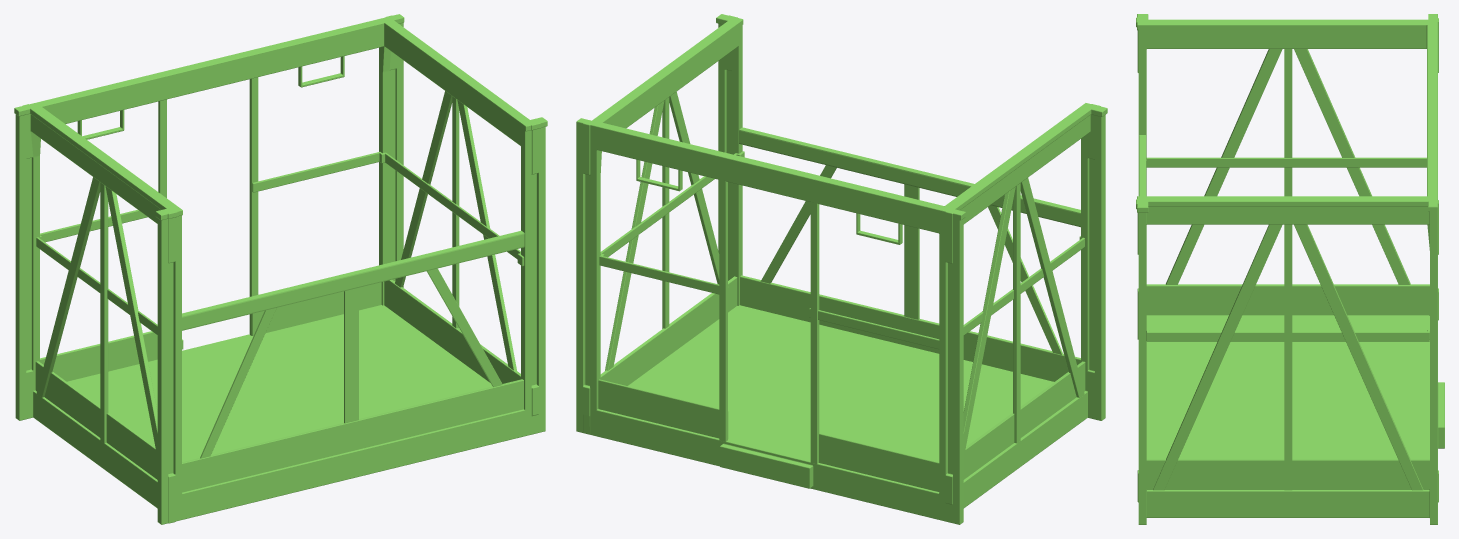
The model's file is constructionPlatform_08.fbx.
3 views of the same model, side by side, from view 1: azimuth 30°, elevation 25°; view 2: azimuth 150°, elevation 25°; view 3: azimuth 270°, elevation 25° (orthographic). The views are drawn at different scales.
Visible parts, largest first — view 1: railing, floor, railing.008, railing.002, rail detail 2, railing.003, railing.004, railing.001, railing.006, railing.009, rail detail 2.001, railing.007 (+1 smaller); view 2: railing, floor, railing.008, rail detail 2, rail detail 2.001, railing.004, railing.003, railing.002, railing.001, railing.007, railing.009, railing.006 (+1 smaller); view 3: railing, floor, railing.007, railing.006, rail detail 2.001, rail detail 2, railing.003, railing.004, railing.005, railing.001, railing.008.
Boxes of the visible parts, box(x1,y1,x2,y2) form: railing: box(14, 14, 547, 524); floor: box(67, 305, 492, 461); railing.008: box(182, 230, 524, 330); railing.002: box(200, 268, 502, 458); rail detail 2: box(252, 152, 524, 266); railing.003: box(105, 186, 157, 457); railing.004: box(36, 177, 100, 397); railing.001: box(100, 182, 108, 443); railing.006: box(457, 100, 516, 370); railing.009: box(344, 288, 358, 423); rail detail 2.001: box(36, 209, 183, 349); railing.007: box(395, 91, 452, 287); railing: box(576, 14, 1107, 524); floor: box(628, 305, 1053, 461); railing.008: box(739, 127, 1080, 227); rail detail 2: box(599, 151, 744, 295); rail detail 2.001: box(809, 236, 1084, 349); railing.004: box(963, 187, 1015, 457); railing.003: box(1020, 178, 1084, 397); railing.002: box(760, 165, 1062, 354); railing.001: box(1013, 183, 1020, 443); railing.007: box(605, 100, 664, 370); railing.009: box(904, 184, 919, 319); railing.006: box(669, 92, 719, 284); railing: box(1136, 14, 1444, 524); floor: box(1146, 315, 1429, 458); railing.007: box(1294, 224, 1423, 490); railing.006: box(1153, 224, 1282, 490); rail detail 2.001: box(1146, 157, 1426, 168); rail detail 2: box(1146, 329, 1429, 341); railing.003: box(1166, 49, 1282, 284); railing.004: box(1294, 49, 1410, 284); railing.005: box(1284, 224, 1292, 490); railing.001: box(1284, 49, 1292, 196); railing.008: box(1139, 135, 1146, 196).
Bounding box in the file's own units: 152 × 116 × 102.
